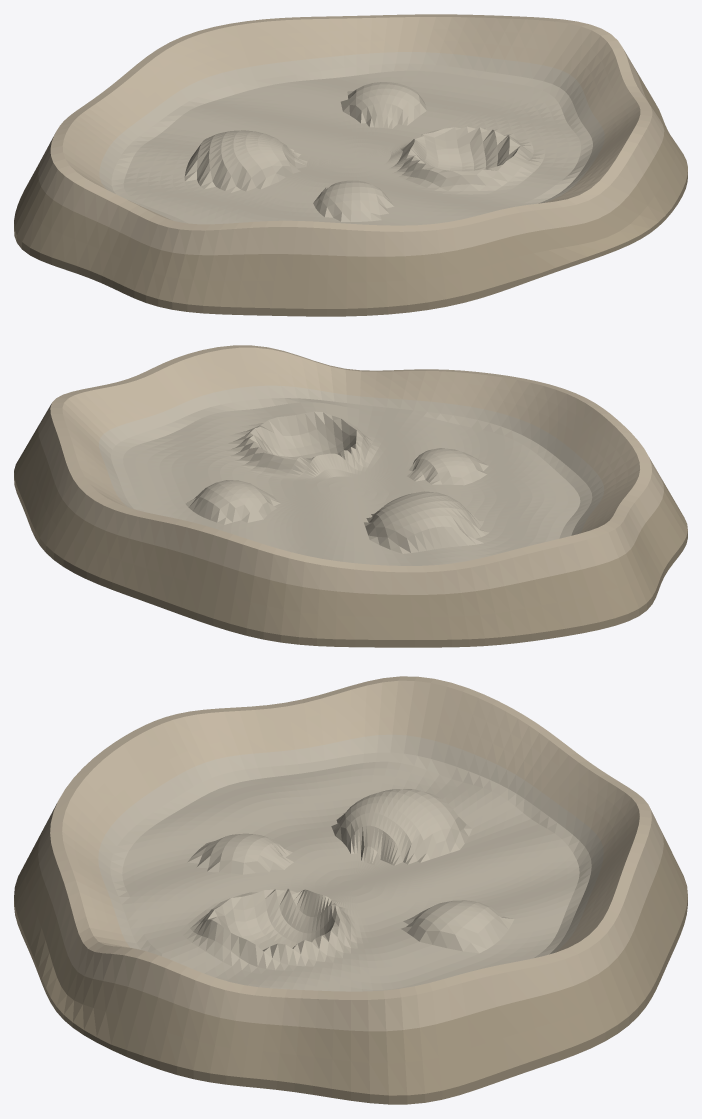
The model's file is mudpot.glb.
3 renders of one model, top to bottom at view 1: azimuth 30°, elevation 25°; view 2: azimuth 150°, elevation 25°; view 3: azimuth 270°, elevation 25°, orthographic. The views are drawn at different scales.
Visible parts, largest first — view 1: integrated_muddy_basin_rim_domes_and_collapsed_cup; view 2: integrated_muddy_basin_rim_domes_and_collapsed_cup; view 3: integrated_muddy_basin_rim_domes_and_collapsed_cup.
Part boxes in pixels (x1,y1,x2,y2): integrated_muddy_basin_rim_domes_and_collapsed_cup: (14,14,687,316); integrated_muddy_basin_rim_domes_and_collapsed_cup: (14,345,687,647); integrated_muddy_basin_rim_domes_and_collapsed_cup: (14,676,687,1104).
Size of the model in its own units: 5.11 by 0.6092 by 4.05.
